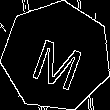M_N: (26, 25, 87, 88)
